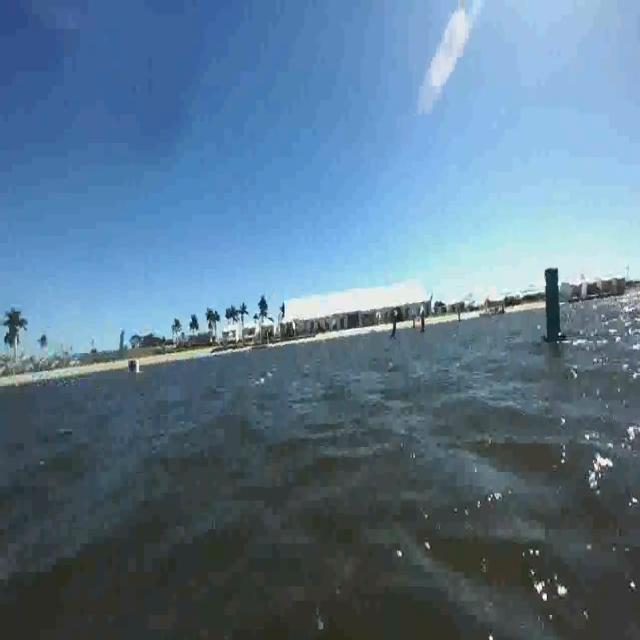green-column-buoy: (540, 264, 566, 346)
